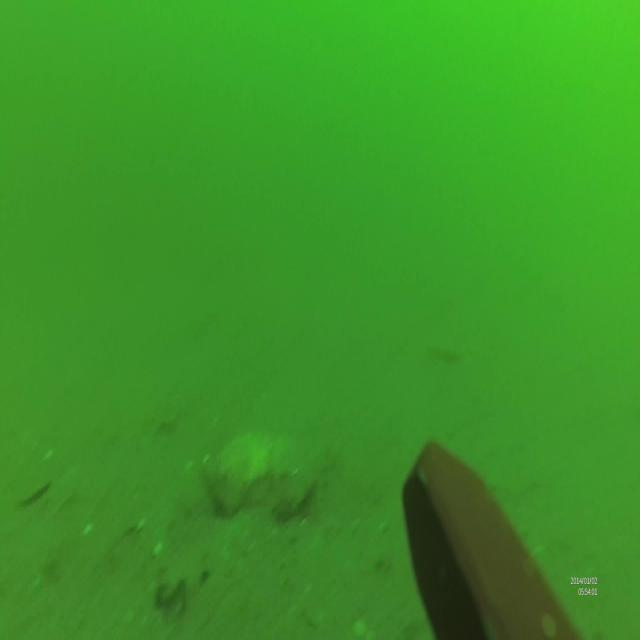scallop: (206, 432, 315, 525), (20, 479, 52, 507)
